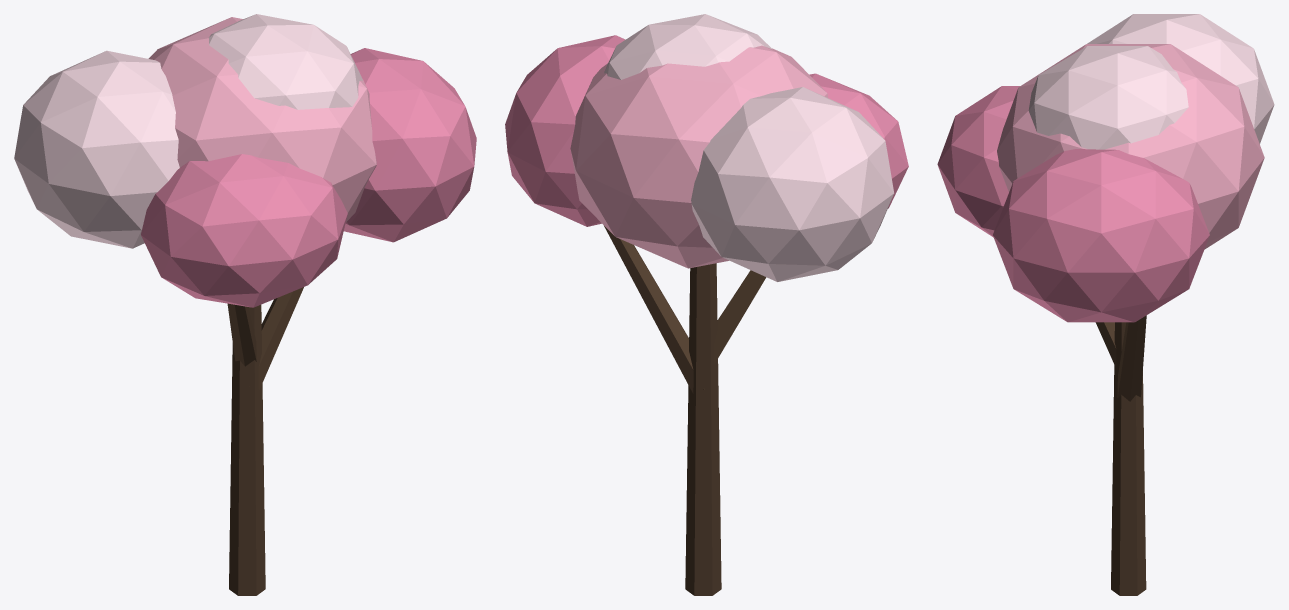
The model's file is sakura_tree_sakura_b.glb.
The picture shows the model from 3 angles, left to right: view 1: azimuth 30°, elevation 25°; view 2: azimuth 150°, elevation 25°; view 3: azimuth 270°, elevation 25°; orthographic projection. The views are drawn at different scales.
Parts seen in each view (by area): view 1: sakura_tree_sakura_b; view 2: sakura_tree_sakura_b; view 3: sakura_tree_sakura_b.
Boxes of the visible parts, x1,y1,x2,y2 form: sakura_tree_sakura_b: (14,14,476,595); sakura_tree_sakura_b: (505,14,908,595); sakura_tree_sakura_b: (937,14,1274,595).
Size of the model in its own units: 1.61 by 2.2 by 1.24.
Materials: 1 (1 with a texture image).
